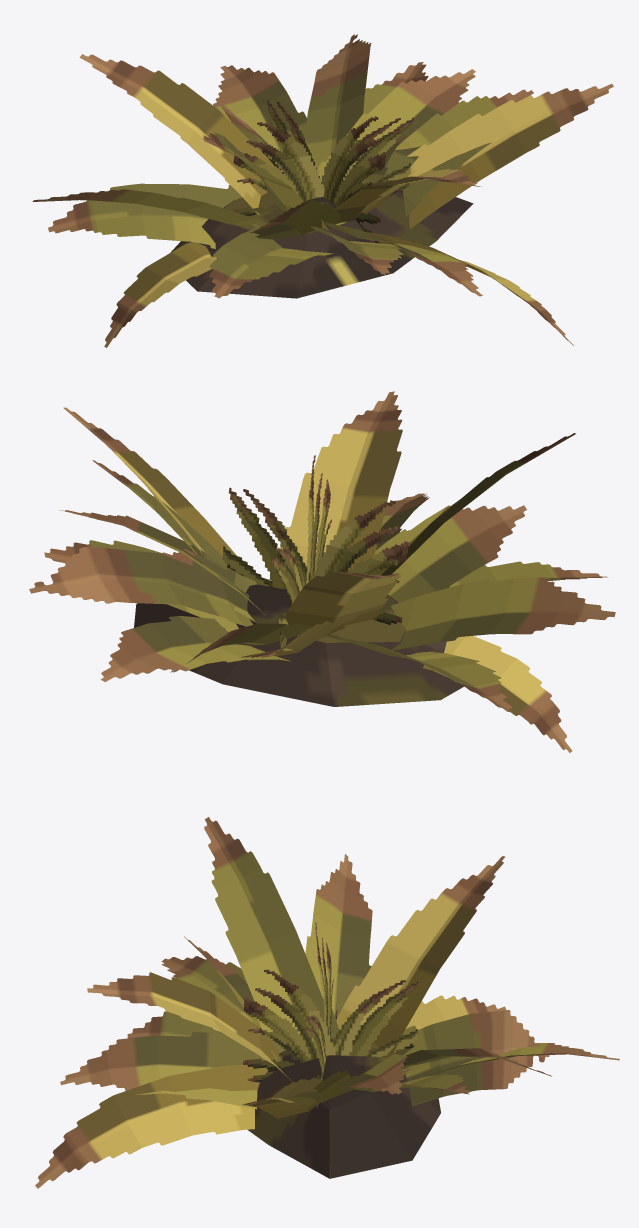
The model's file is SM_SW03_SedgeRosette.fbx.
3 renders of one model, top to bottom at view 1: azimuth 30°, elevation 25°; view 2: azimuth 150°, elevation 25°; view 3: azimuth 270°, elevation 25°, orthographic. The views are drawn at different scales.
Parts seen in each view (by area): view 1: SW03b_Plants, SW03b_Mud; view 2: SW03b_Plants, SW03b_Mud; view 3: SW03b_Plants, SW03b_Mud.
Part boxes in pixels (<box>): SW03b_Plants: <box>32,34,613,347</box>; SW03b_Mud: <box>171,190,473,298</box>; SW03b_Plants: <box>29,391,615,752</box>; SW03b_Mud: <box>134,580,463,706</box>; SW03b_Plants: <box>35,817,619,1188</box>; SW03b_Mud: <box>247,1038,440,1178</box>.
Size of the model in its own units: 0.6779 by 0.307 by 0.6482.
